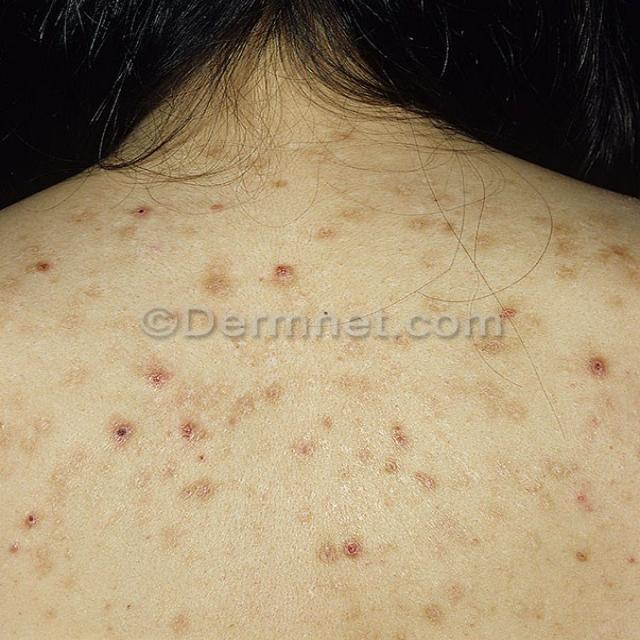acne: (136, 346, 192, 394), (81, 413, 150, 449), (266, 241, 312, 290), (561, 348, 617, 384), (193, 257, 238, 301), (176, 413, 216, 456)
